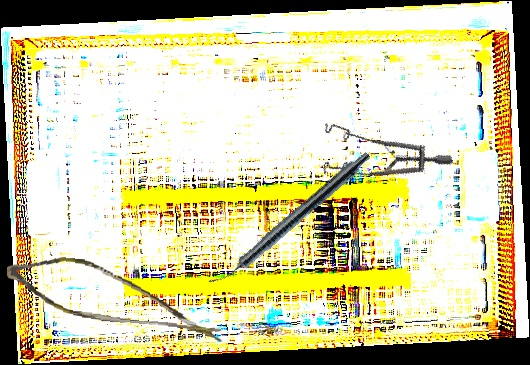Handpiece: (207, 145, 374, 295)
Micro Scissor: (2, 251, 231, 343)
Speculum: (307, 84, 454, 210)
